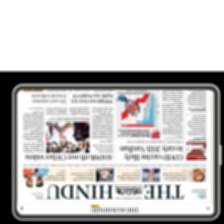news_paper: (13, 84, 212, 214)
